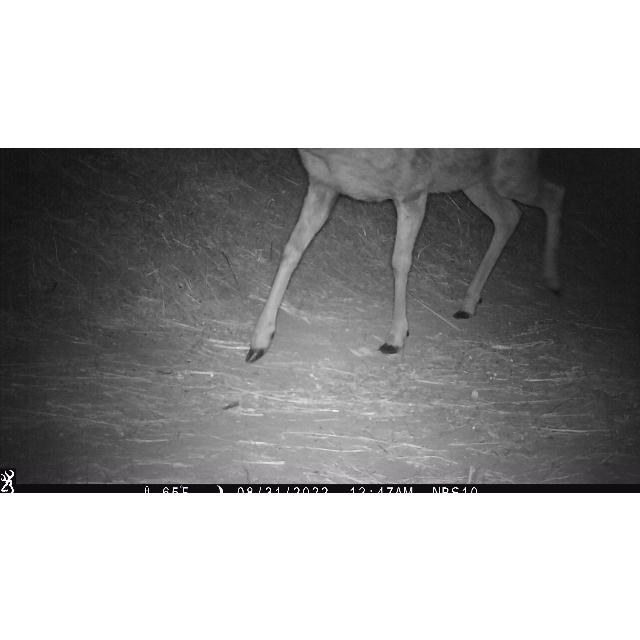animals: (242, 147, 570, 370)
